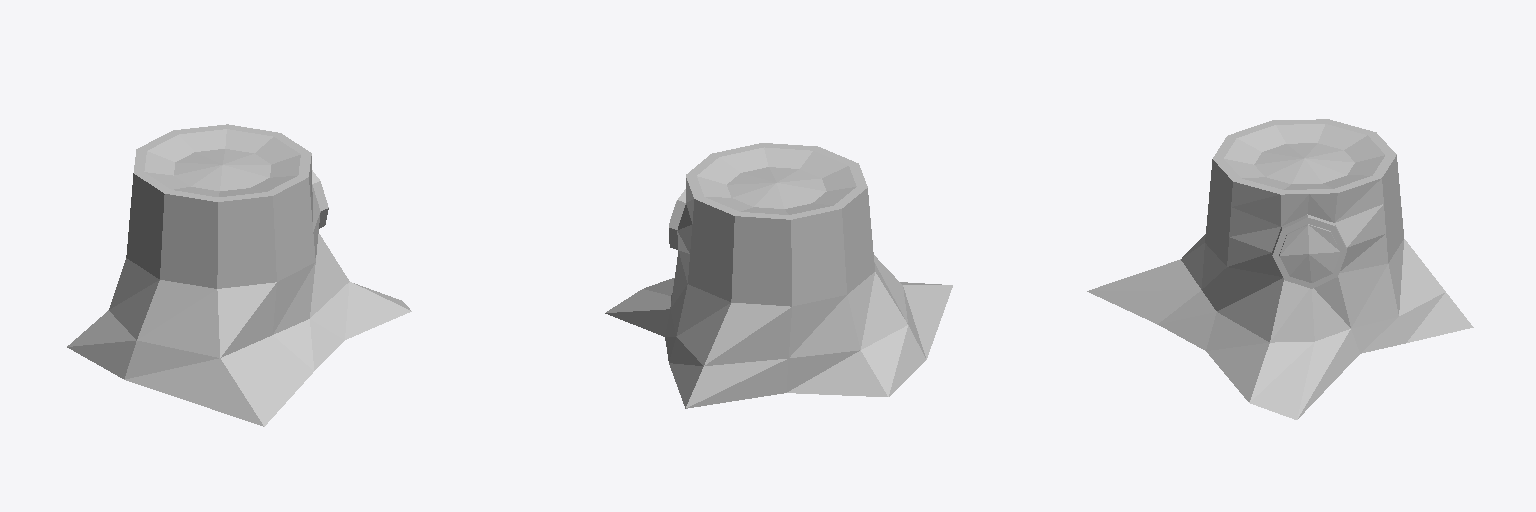
The model's file is WOH_Asset_Tree_Stump.obj.
The picture shows the model from 3 angles: view 1: azimuth 30°, elevation 25°; view 2: azimuth 150°, elevation 25°; view 3: azimuth 270°, elevation 25°; orthographic projection.
Parts seen in each view (by area): view 1: WOH_Asset_Tree_Stump; view 2: WOH_Asset_Tree_Stump; view 3: WOH_Asset_Tree_Stump.
Boxes of the visible parts, x1,y1,x2,y2 form: WOH_Asset_Tree_Stump: [67, 124, 411, 426]; WOH_Asset_Tree_Stump: [605, 143, 952, 408]; WOH_Asset_Tree_Stump: [1087, 119, 1473, 419].
Size of the model in its own units: 6.21 by 3.4 by 6.73.